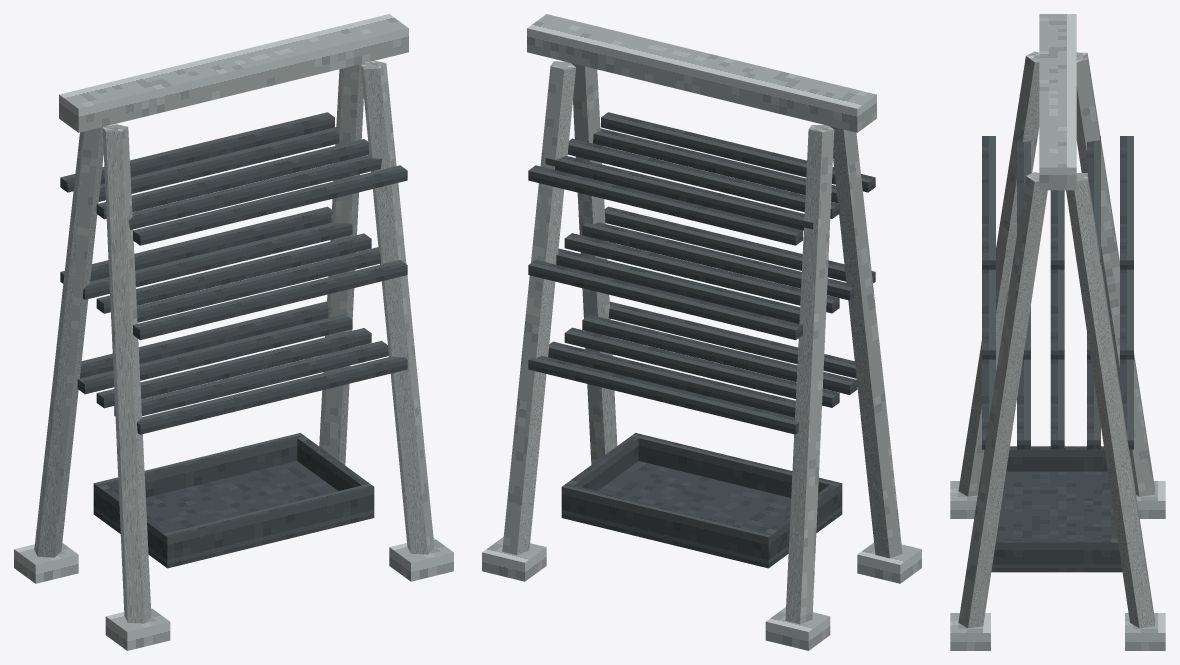
Rendered from f_metal_smoking_rack.glb.
3 views of the same model, side by side, from view 1: azimuth 30°, elevation 25°; view 2: azimuth 150°, elevation 25°; view 3: azimuth 270°, elevation 25° (orthographic). The views are drawn at different scales.
Parts seen in each view (by area): view 1: block_smoker-tray-lath (×15), block_A-frame-trestle-1 (×4), block_crossbeam, block_charcoal-pan-base, block_charcoal-pan-end-1, block_trestle-foot (×3), block_charcoal-pan-end--1, block_charcoal-pan-side-1, block_charcoal-pan-side--1; view 2: block_smoker-tray-lath (×15), block_A-frame-trestle-1 (×4), block_crossbeam, block_charcoal-pan-base, block_charcoal-pan-end--1, block_trestle-foot (×3), block_charcoal-pan-end-1, block_charcoal-pan-side-1, block_charcoal-pan-side--1; view 3: block_A-frame-trestle-1 (×4), block_smoker-tray-lath (×13), block_charcoal-pan-base, block_crossbeam, block_trestle-foot (×4), block_charcoal-pan-side-1, block_charcoal-pan-side--1.
Part boxes in pixels (<box>): block_smoker-tray-lath (×15): <box>60,112,407,434</box>; block_A-frame-trestle-1 (×4): <box>34,60,434,623</box>; block_crossbeam: <box>59,14,408,132</box>; block_charcoal-pan-base: <box>93,461,374,568</box>; block_charcoal-pan-end-1: <box>163,483,374,559</box>; block_trestle-foot (×3): <box>14,538,453,650</box>; block_charcoal-pan-end--1: <box>93,433,304,508</box>; block_charcoal-pan-side-1: <box>297,436,369,490</box>; block_charcoal-pan-side--1: <box>98,485,170,556</box>; block_smoker-tray-lath (×15): <box>528,112,875,434</box>; block_A-frame-trestle-1 (×4): <box>502,61,902,624</box>; block_crossbeam: <box>527,14,876,132</box>; block_charcoal-pan-base: <box>561,461,842,568</box>; block_charcoal-pan-end--1: <box>561,483,772,559</box>; block_trestle-foot (×3): <box>482,537,921,650</box>; block_charcoal-pan-end-1: <box>631,433,842,508</box>; block_charcoal-pan-side-1: <box>566,436,638,490</box>; block_charcoal-pan-side--1: <box>765,485,837,556</box>; block_A-frame-trestle-1 (×4): <box>958,51,1154,628</box>; block_smoker-tray-lath (×13): <box>982,136,1133,449</box>; block_charcoal-pan-base: <box>991,471,1122,572</box>; block_crossbeam: <box>1039,14,1076,190</box>; block_trestle-foot (×4): <box>950,481,1165,650</box>; block_charcoal-pan-side-1: <box>996,539,1119,564</box>; block_charcoal-pan-side--1: <box>1006,446,1107,471</box>.
Size of the model in its own units: 0.878 by 1.29 by 0.521.
1 material, 1 textured.
